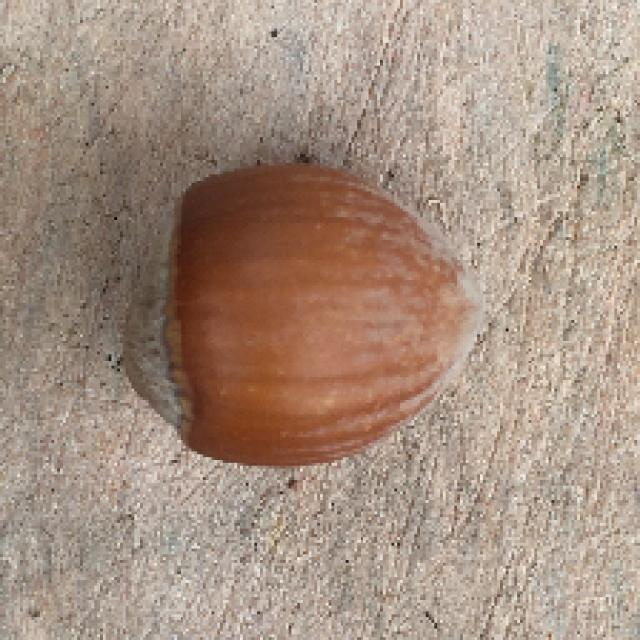qualityHazelnut: (123, 160, 492, 472)
